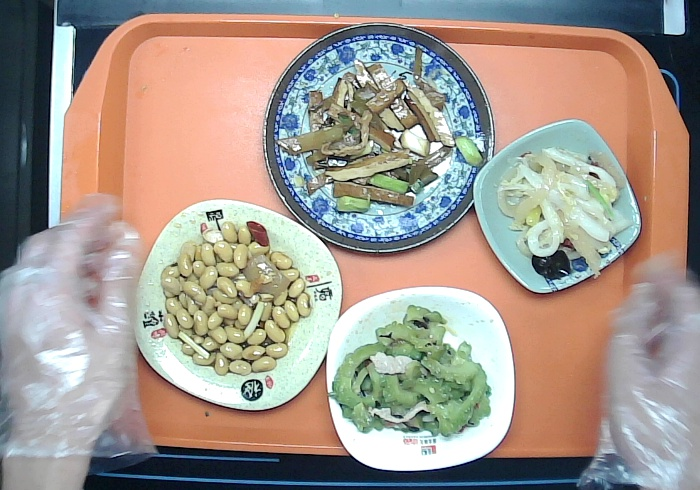NLDX-Bai_Se_Xiao_Fang_Die: (319, 282, 514, 474)
NLDX-Fu_Zi_Fang_Die: (127, 195, 343, 417)
NLDX-Qing_Hua_Xiao_Fang_Die: (470, 111, 646, 297)
NLDX-Qing_Hua_Yuan_Die: (261, 18, 495, 256)
